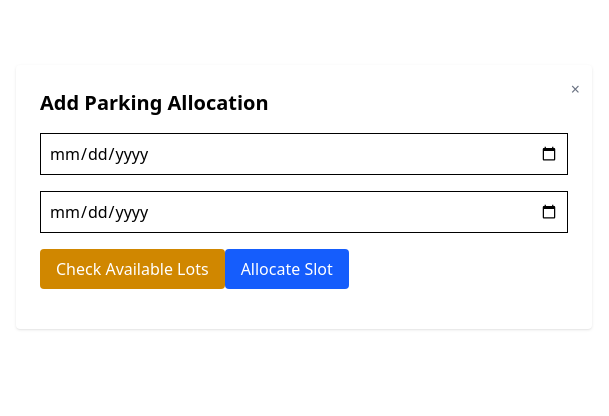
Scenario: AddAllocation component › shows error on allocation submission failure
In the 1st date field named "fromDate": (304, 154) [40, 133, 568, 175], type "2025-08-01"
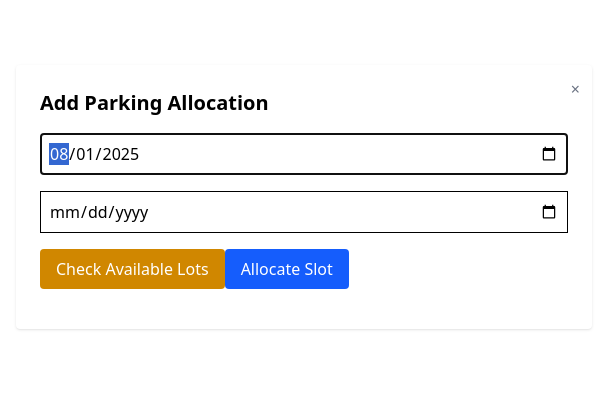
In the 2nd date field named "toDate": (304, 212) [40, 191, 568, 233], type "2025-08-05"
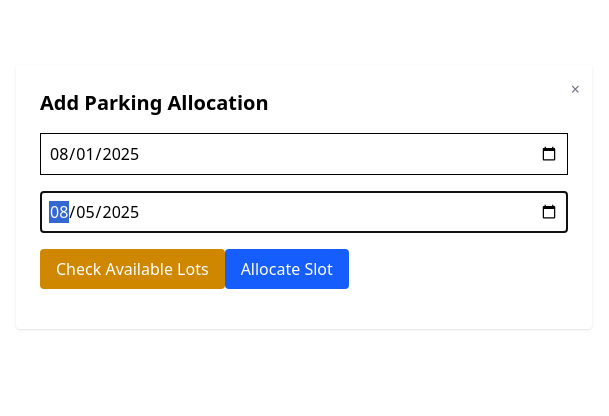
Click the button "Check Available Lots": (132, 269) [40, 249, 225, 289]
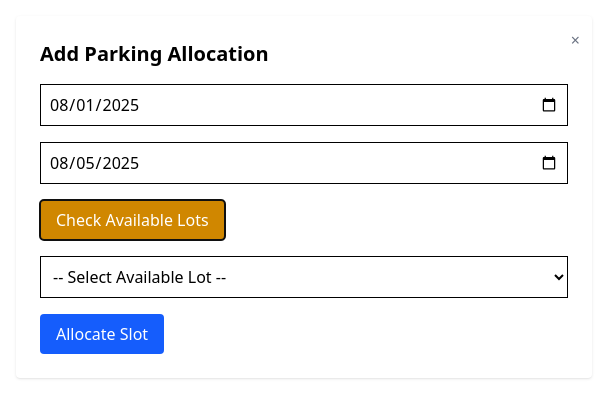
Select "L1 - Level 1" in the dropdown: (304, 277) [40, 256, 568, 298]
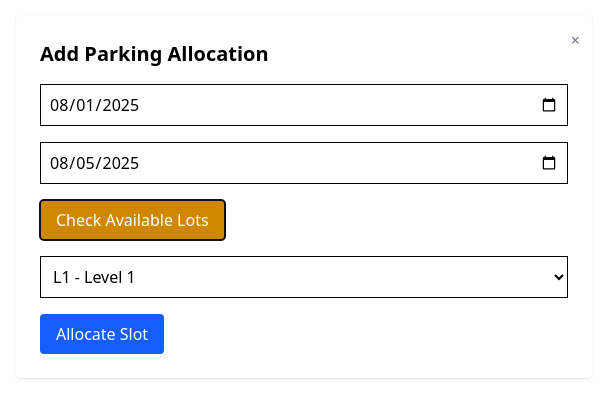
Click the button "Allocate Slot": (102, 334) [40, 314, 164, 354]
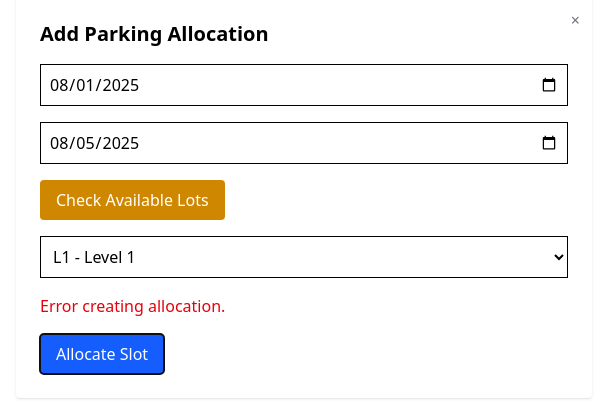
expect the text "Error creating allocation." is shown: met, box [40, 295, 225, 317]
